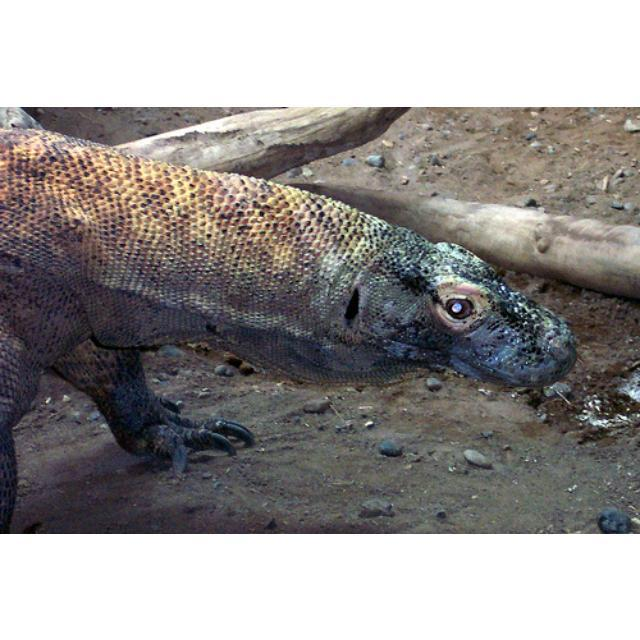KomodoDragon: (0, 125, 574, 530)
